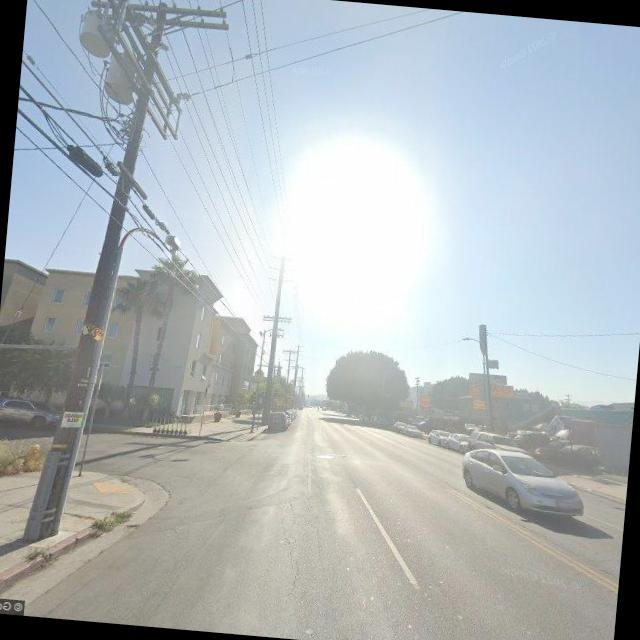pothole: (274, 502, 312, 600)
